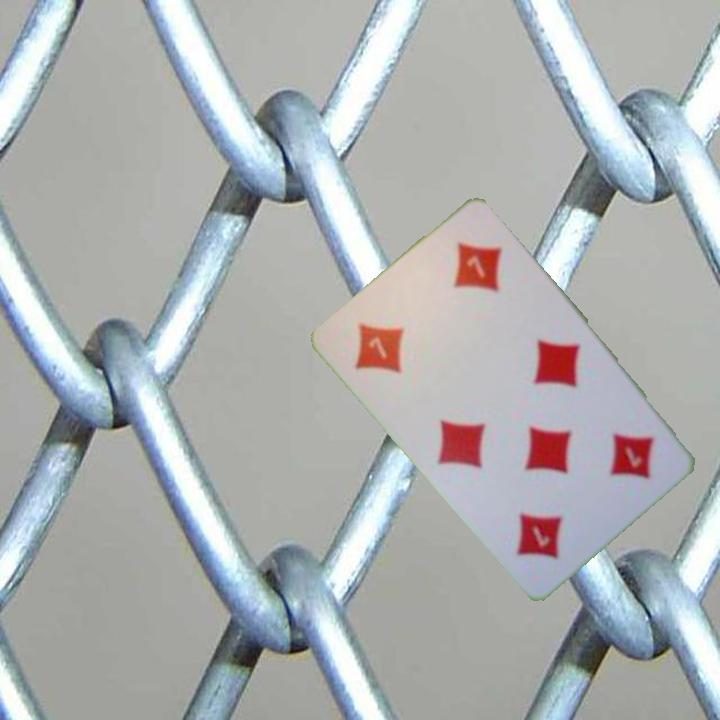d_7.png: (328, 276, 458, 404), (554, 392, 683, 520)
